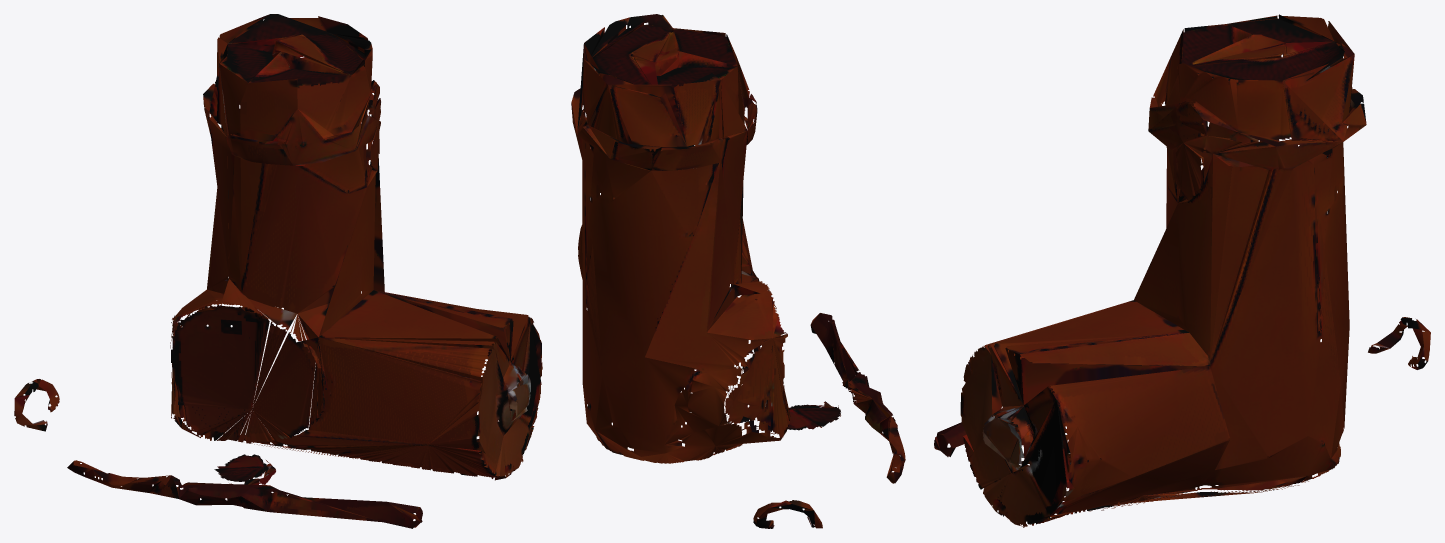
The model's file is Leather.glb.
The picture shows the model from 3 angles, left to right: view 1: azimuth 30°, elevation 25°; view 2: azimuth 150°, elevation 25°; view 3: azimuth 270°, elevation 25°; orthographic projection. The views are drawn at different scales.
Visible parts, largest first — view 1: temp_mesh.ply; view 2: temp_mesh.ply; view 3: temp_mesh.ply.
Part boxes in pixels (left/top/right/bottom): temp_mesh.ply: left=14, top=14, right=542, bottom=528; temp_mesh.ply: left=571, top=14, right=905, bottom=528; temp_mesh.ply: left=934, top=14, right=1430, bottom=527.
Bounding box in the file's own units: 0.4 × 0.3678 × 0.3907.
Materials: 1 (1 with a texture image).
